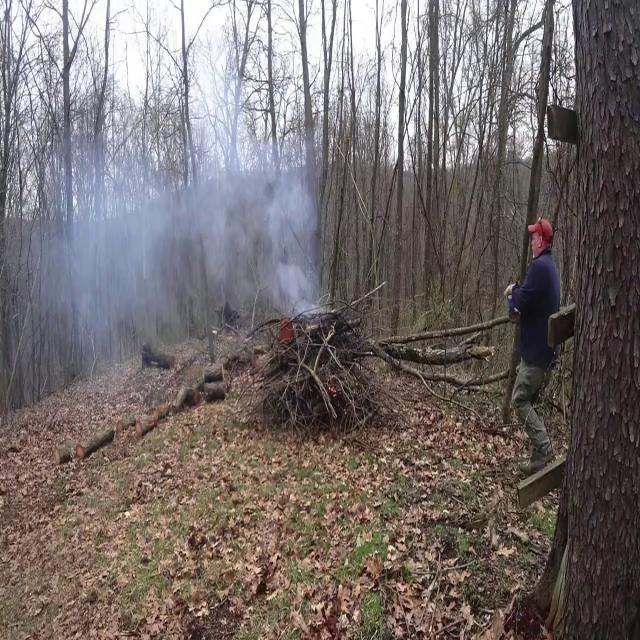Smoke: (52, 93, 326, 375)
